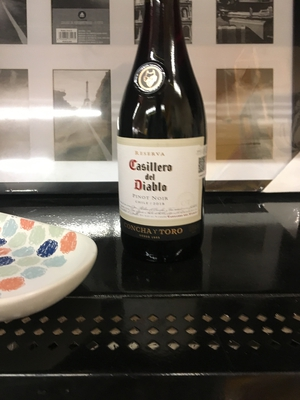casillero del diablo pinot noir: (102, 14, 215, 276)
